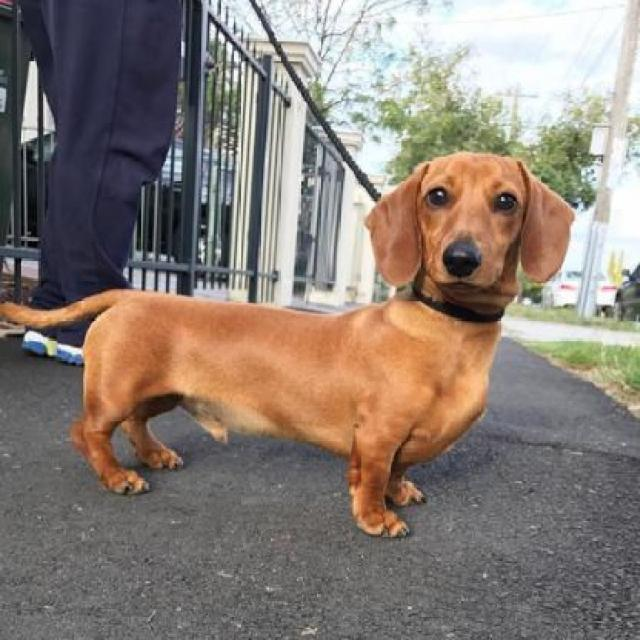Dog: (2, 149, 576, 542)
